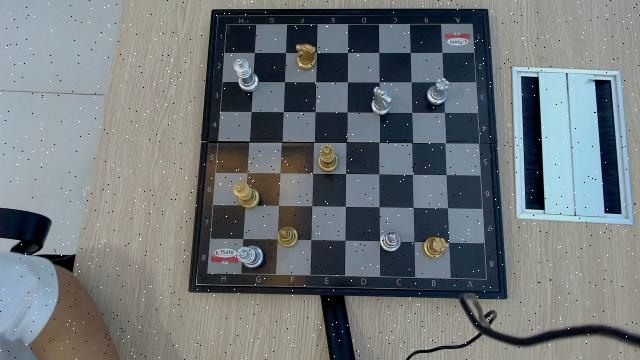black_bishop: (277, 227, 299, 248)
black_king: (233, 182, 260, 209)
black_knight: (294, 43, 317, 71)
black_queen: (317, 144, 339, 173)
black_rook: (423, 236, 448, 259)
white_bishop: (379, 231, 400, 253)
white_king: (232, 57, 258, 92)
white_knight: (369, 86, 393, 116)
white_queen: (237, 245, 264, 269)
white_rook: (424, 77, 450, 107)
